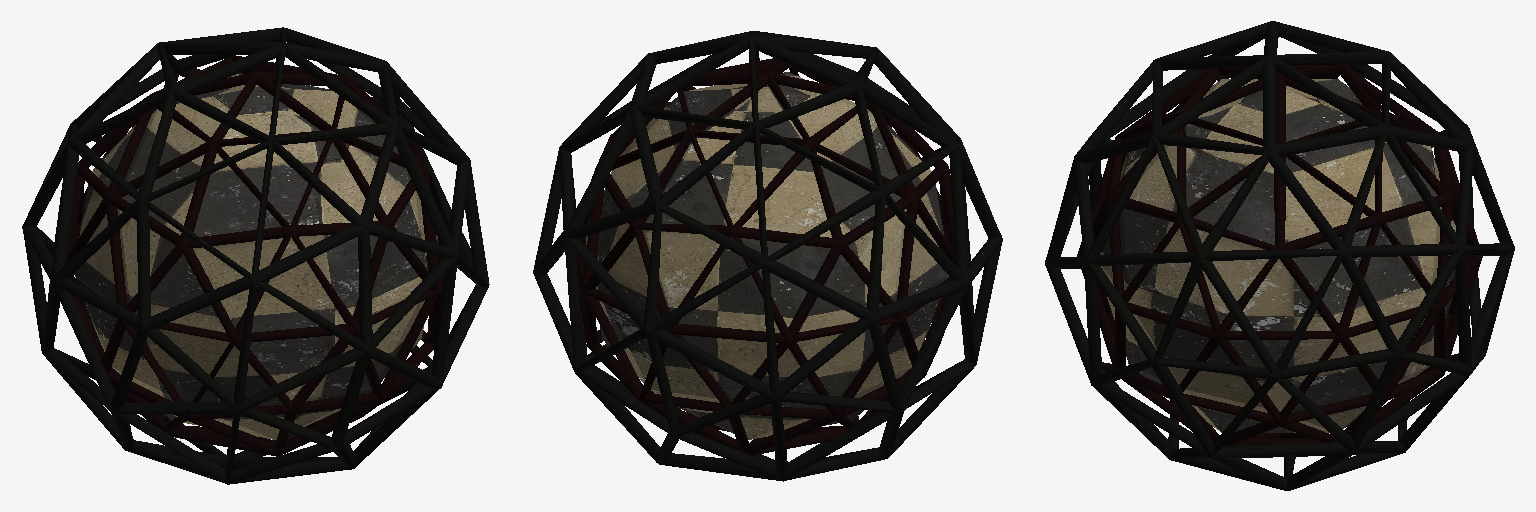
The picture shows the model from 3 angles: view 1: azimuth 30°, elevation 25°; view 2: azimuth 150°, elevation 25°; view 3: azimuth 270°, elevation 25°; orthographic projection.
Visible parts, largest first — view 1: Icosphere.002, Icosphere, Icosphere.001; view 2: Icosphere.002, Icosphere, Icosphere.001; view 3: Icosphere.002, Icosphere, Icosphere.001.
Part boxes in pixels (left/top/right/bottom): Icosphere.002: left=22, top=27, right=489, bottom=484; Icosphere: left=74, top=73, right=437, bottom=439; Icosphere.001: left=66, top=55, right=449, bottom=456; Icosphere.002: left=533, top=31, right=1002, bottom=481; Icosphere: left=586, top=72, right=948, bottom=439; Icosphere.001: left=577, top=58, right=955, bottom=455; Icosphere.002: left=1045, top=21, right=1514, bottom=490; Icosphere: left=1100, top=79, right=1455, bottom=432; Icosphere.001: left=1077, top=65, right=1482, bottom=445.
Bounding box in the file's own units: 1.79 × 1.79 × 1.8.
3 materials, 1 textured.